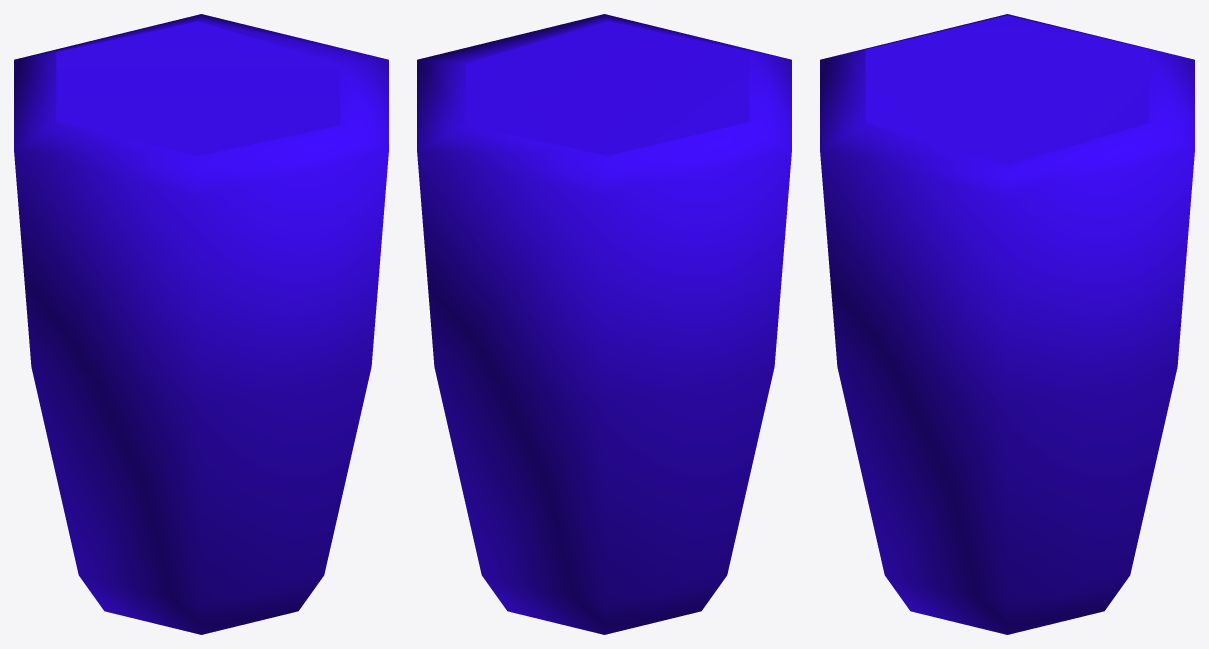
Rendered from office_pack_plant_B_bigPot_1_meshCollider.fbx.
3 renders of one model, left to right at view 1: azimuth 30°, elevation 25°; view 2: azimuth 150°, elevation 25°; view 3: azimuth 270°, elevation 25°, orthographic.
Visible parts, largest first — view 1: office_pack_plant_B_bigPot_1_meshCollider; view 2: office_pack_plant_B_bigPot_1_meshCollider; view 3: office_pack_plant_B_bigPot_1_meshCollider.
Boxes of the visible parts, <box> form: office_pack_plant_B_bigPot_1_meshCollider: <box>14,14,388,634</box>; office_pack_plant_B_bigPot_1_meshCollider: <box>417,14,791,634</box>; office_pack_plant_B_bigPot_1_meshCollider: <box>820,14,1194,634</box>.
Size of the model in its own units: 34.94 by 44.67 by 30.26.
